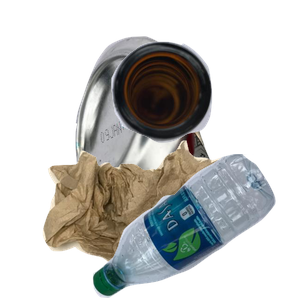glass: (109, 39, 300, 175)
metal: (73, 34, 285, 214)
plastic: (90, 154, 300, 300)
trash: (40, 138, 280, 300)
